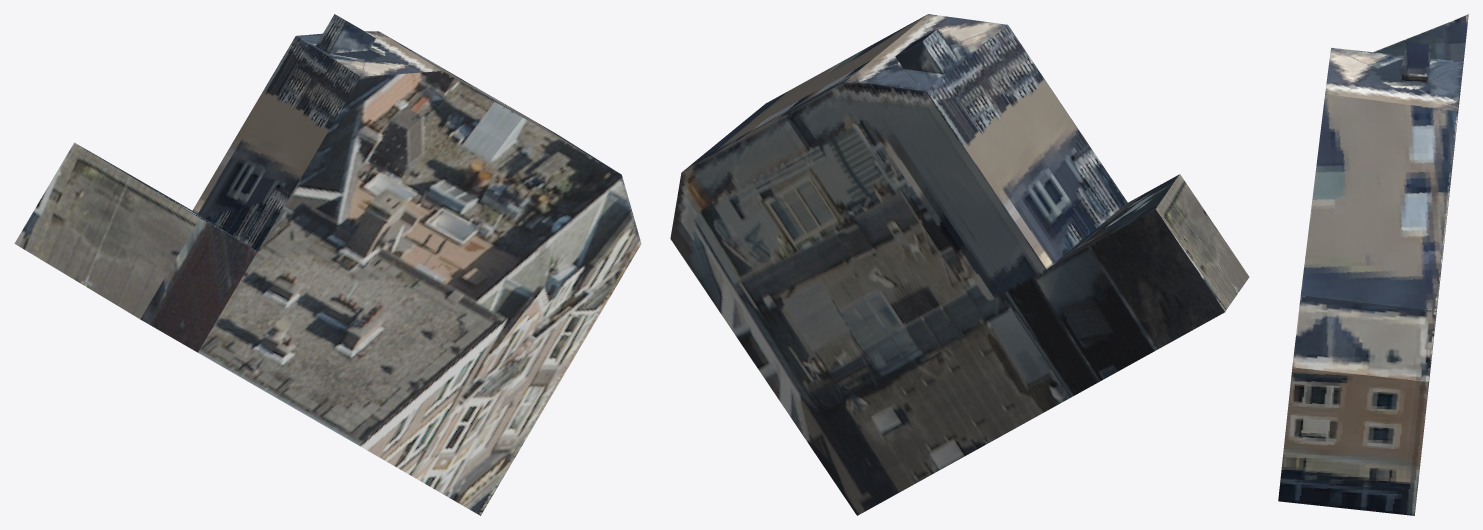
The picture shows the model from 3 angles, left to right: view 1: azimuth 30°, elevation 25°; view 2: azimuth 150°, elevation 25°; view 3: azimuth 270°, elevation 25°; orthographic projection. The views are drawn at different scales.
Visible parts, largest first — view 1: BAG_0599100000671730 (×3); view 2: BAG_0599100000671730 (×3); view 3: BAG_0599100000671730 (×4).
Boxes of the visible parts, x1,y1,x2,y2 form: BAG_0599100000671730 (×3): [14, 14, 641, 515]; BAG_0599100000671730 (×3): [670, 14, 1249, 515]; BAG_0599100000671730 (×4): [1278, 14, 1468, 515].
Size of the model in its own units: 25.38 by 21.18 by 8.28.
2 materials, 1 textured.
